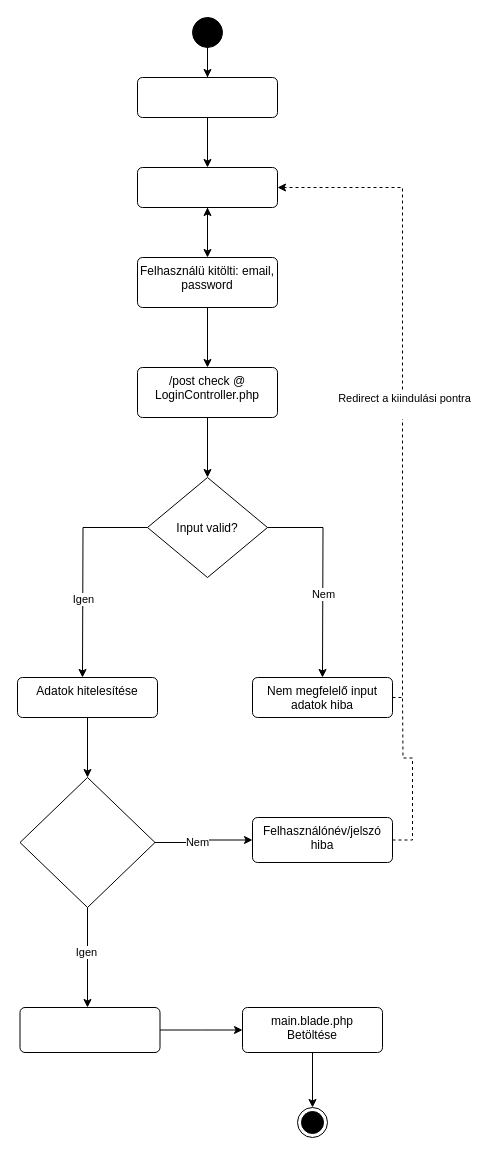
Image size: 488x1155. Some labels were removed from this diagram. Each missing label, with the box of its shape:
GET /login route: (136, 76, 278, 118)
Login valid?: (19, 776, 155, 908)
login.blade.php renderelése: (136, 166, 278, 208)
Session megújítás: (19, 1006, 160, 1052)
